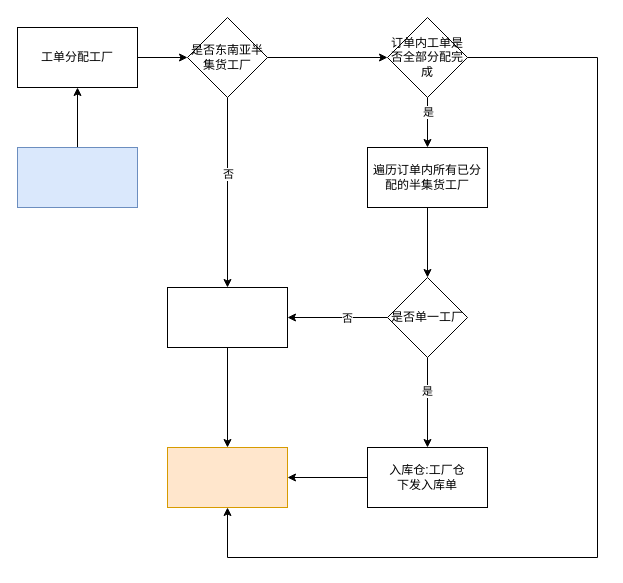
Image size: 623x583. Some labels were removed from this diagram. Each missing label, with the box of its shape:
入库仓:母仓 下发入库单: (166, 286, 288, 348)
开始: (16, 146, 138, 208)
结束: (166, 446, 288, 508)
